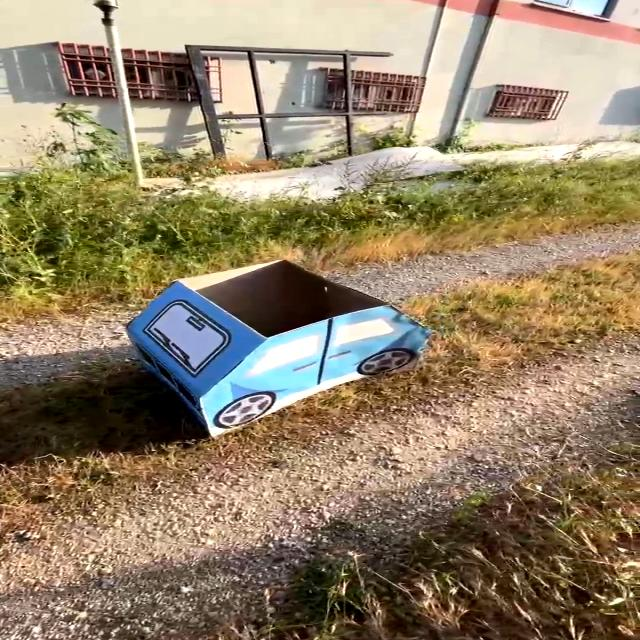blue_car: (85, 237, 458, 462)
